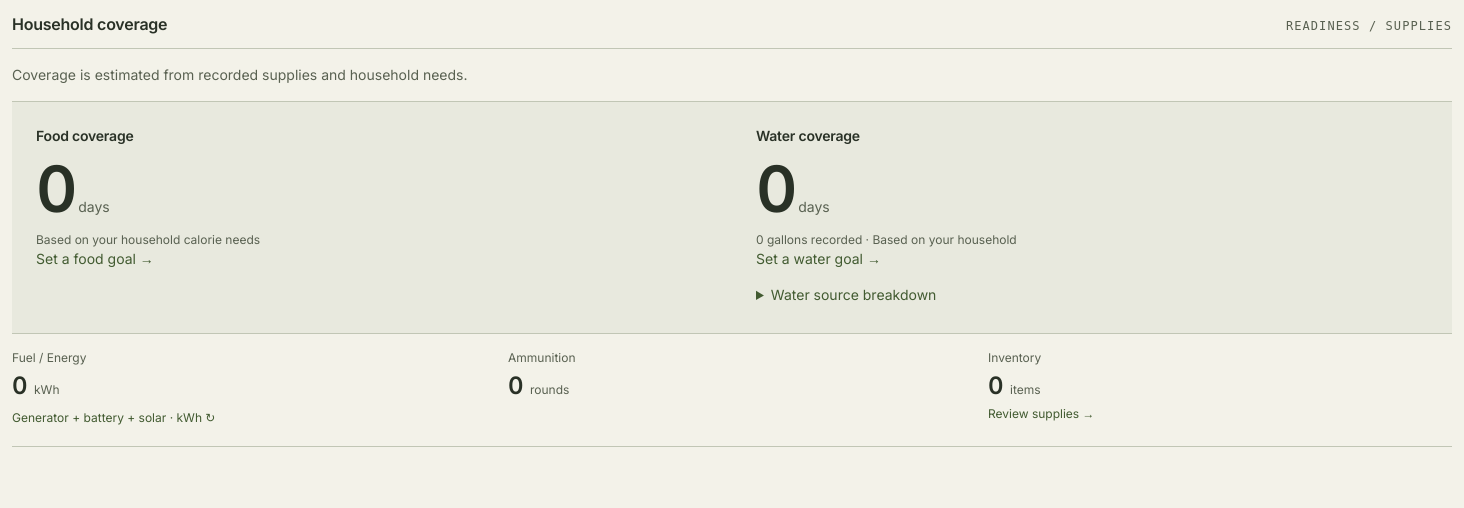
Test: household coverage › keeps zero household coverage explicit and source breakdowns touch-accessible
Click the heading "Water source breakdown" at (854, 295), box [771, 286, 936, 303]
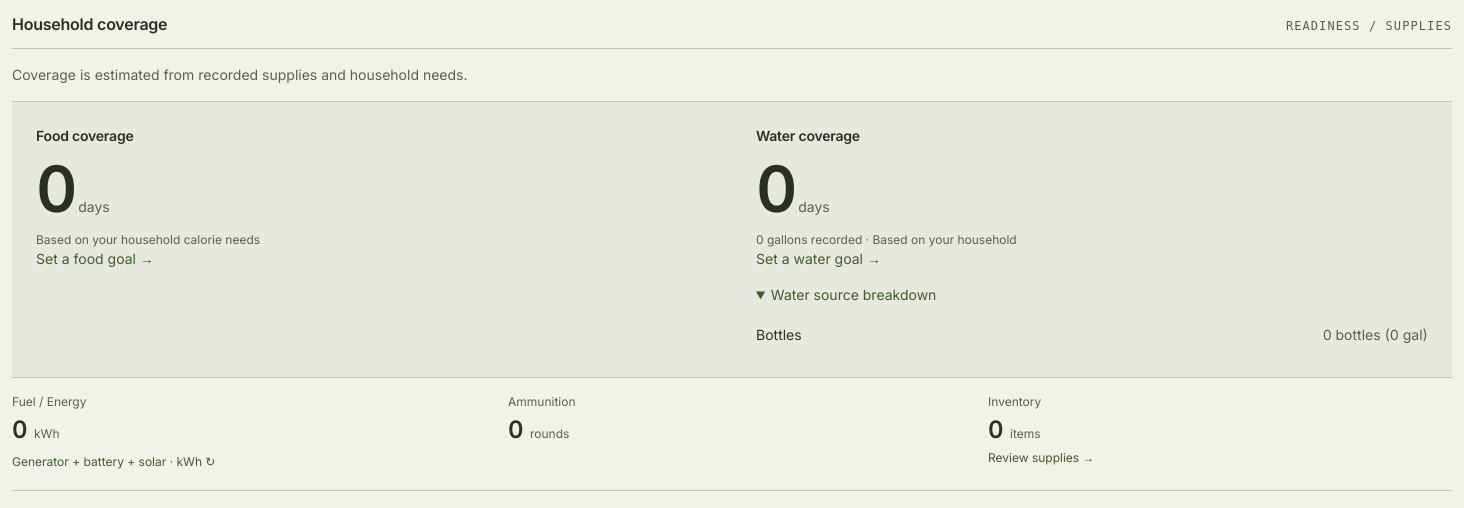
Check: the text "Bottles" is shown, box [756, 325, 802, 345]
